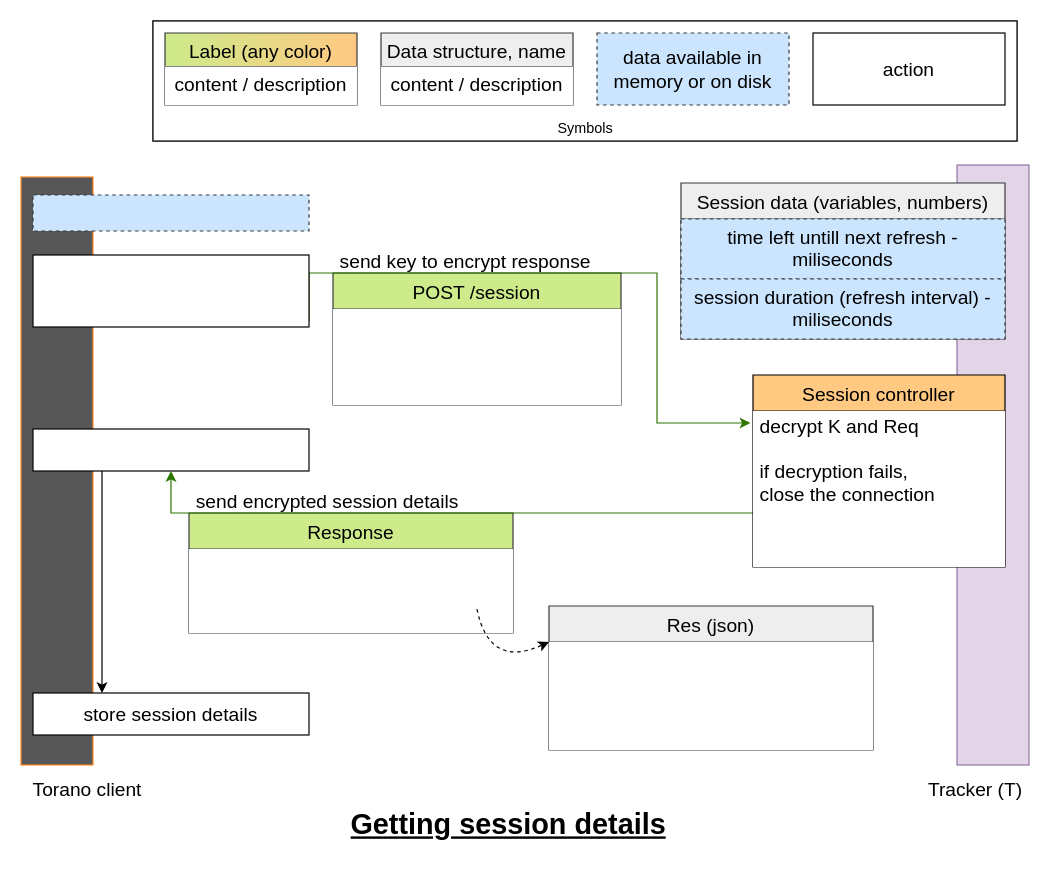
The diagram is 1050 pixels wide and 882 high, and some of its shapes have lost their labels. Here are the shapes that lost their labels. From the top down, the centre of each, then its label:
At (170,212): "tracker's public key (T)".
At (170,290): "generate aes key (K) for the following data exchange".
At (476,356): "{ encryptedKey: SymEncr_ T (K) }".
At (170,449): "decrypt Res".
At (878,536): "return session data".
At (350,590): "{ encryptedData: AsymEncr_K (Res) }".
At (710,695): "{ timeLeft: time left until next refresh refreshPeriod: session duration }".
